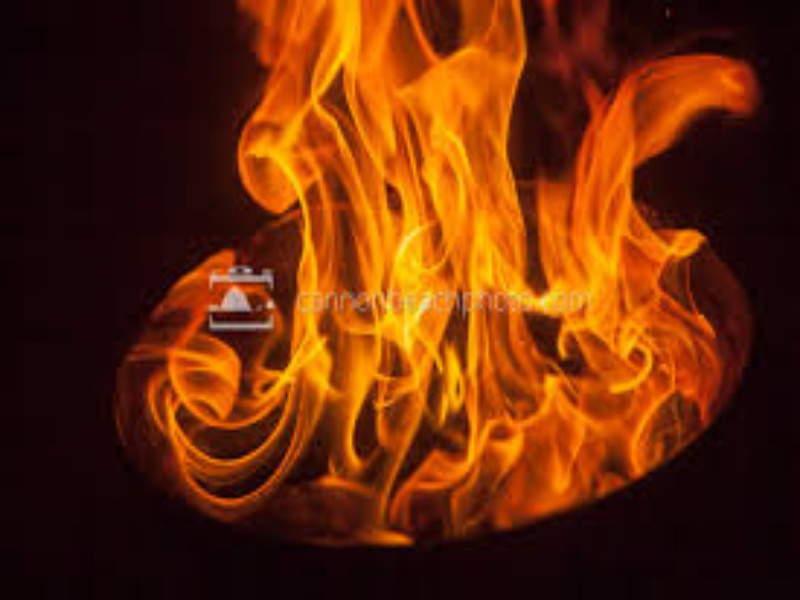fire: (121, 2, 766, 544)
